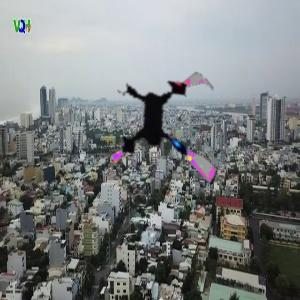drone: (99, 62, 239, 202)
